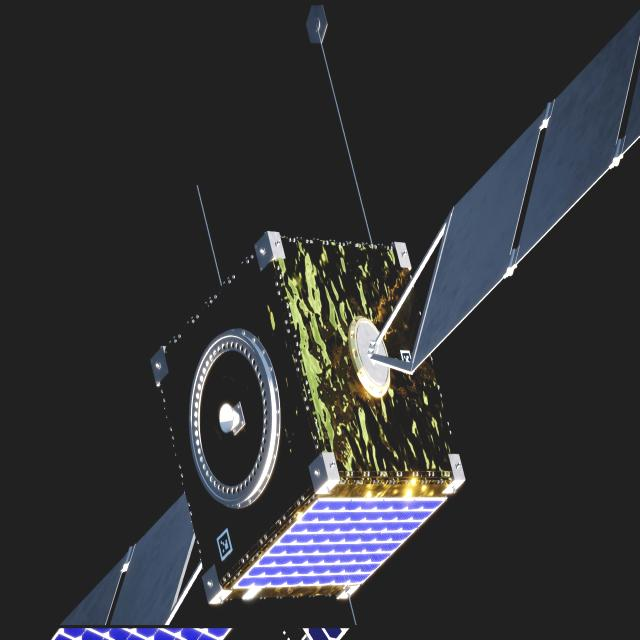satellite: (54, 9, 640, 640)
